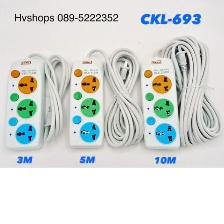three_eye_plug: (64, 53, 116, 152), (135, 53, 186, 152), (2, 52, 49, 154)
